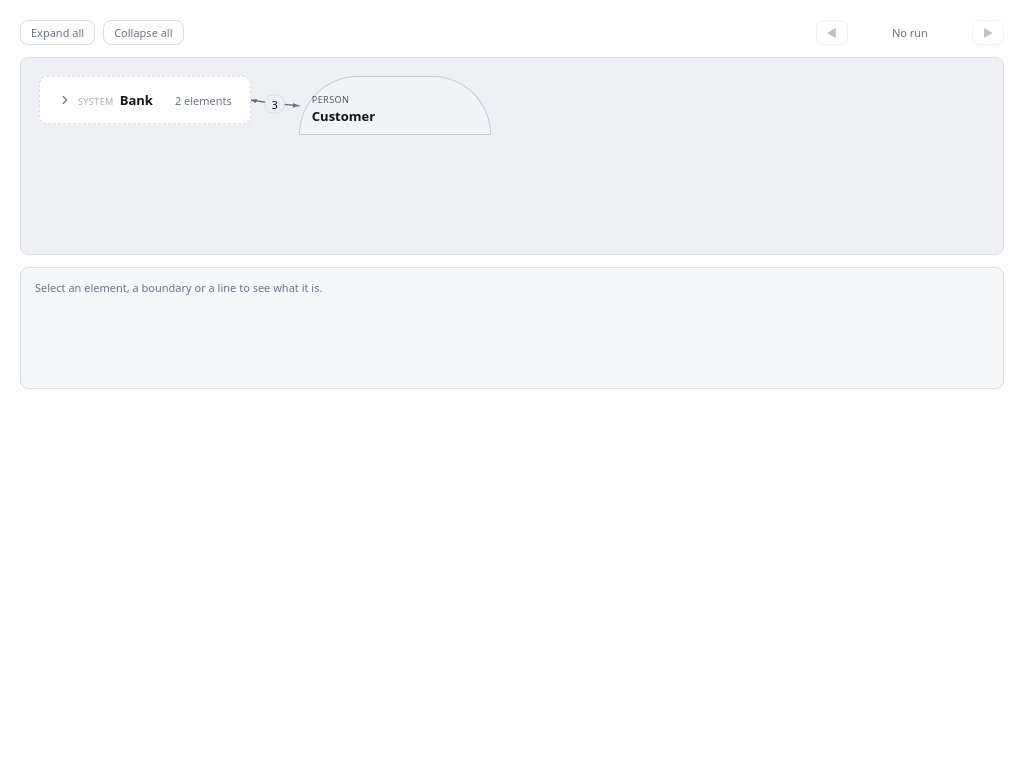
Test case: C4Chart — the link modal › opens a modal listing every relation an aggregate carries
# Shut, so all three relations land on the customer ↔ Bank line.
Click the button named "3 relations" at (275, 104), box [265,94,285,113]
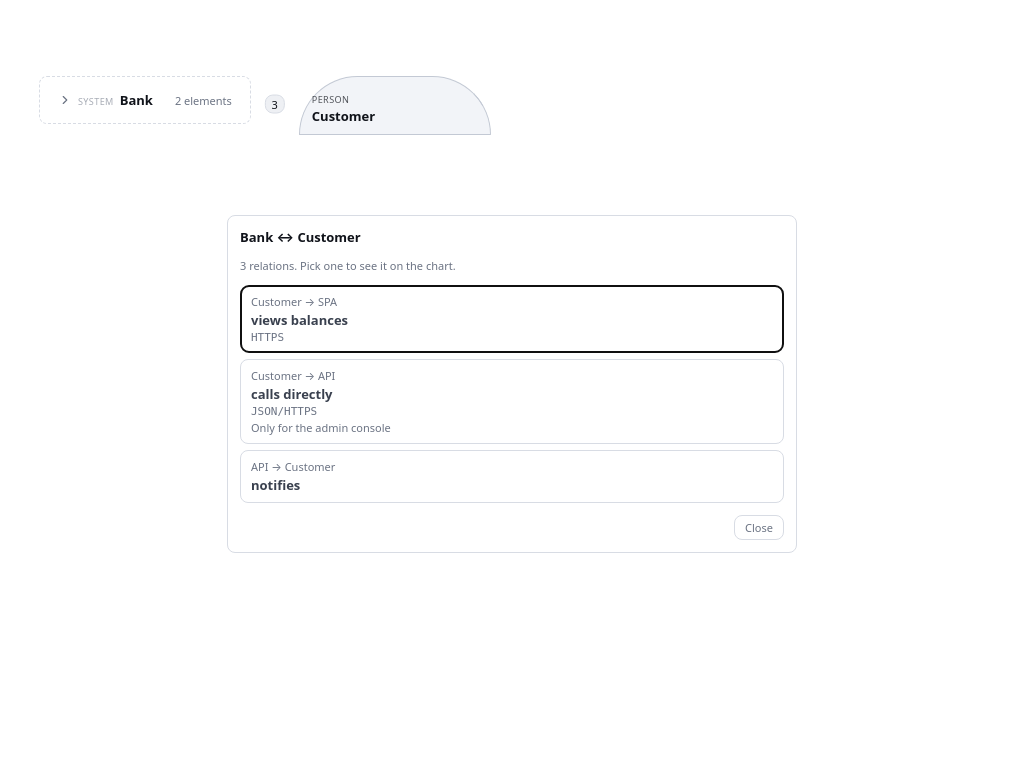
Expected: the dialog shows "views balances", [240,285,784,353]
Expected: the dialog shows "calls directly", [240,359,784,444]
Expected: the dialog shows "notifies", [240,450,784,503]
